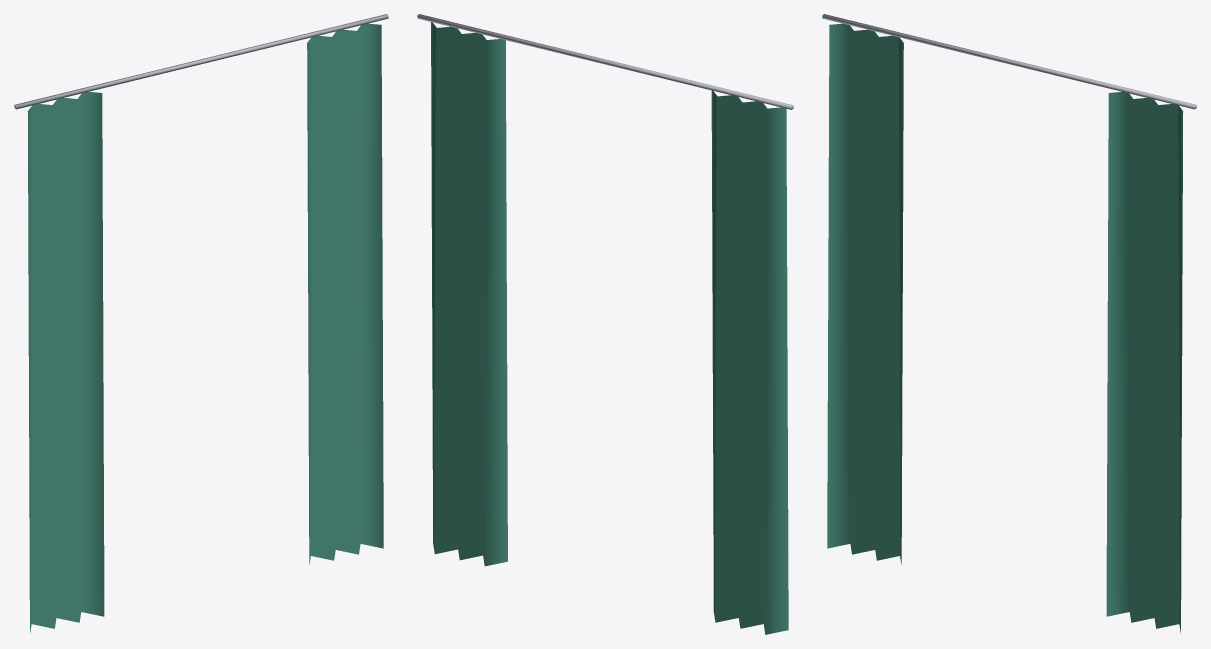
Rendered from city_curtain_teal.glb.
The picture shows the model from 3 angles, left to right: view 1: azimuth 30°, elevation 25°; view 2: azimuth 150°, elevation 25°; view 3: azimuth 330°, elevation 25°; orthographic projection.
Visible parts, largest first — view 1: CityCurtainTeal_PanelL, CityCurtainTeal_PanelR, CityCurtainTeal_Rod; view 2: CityCurtainTeal_PanelL, CityCurtainTeal_PanelR, CityCurtainTeal_Rod; view 3: CityCurtainTeal_PanelL, CityCurtainTeal_PanelR, CityCurtainTeal_Rod.
Boxes of the visible parts, left/top/right/bottom form: CityCurtainTeal_PanelL: left=27, top=92, right=104, bottom=633; CityCurtainTeal_PanelR: left=307, top=23, right=383, bottom=564; CityCurtainTeal_Rod: left=14, top=14, right=388, bottom=109; CityCurtainTeal_PanelL: left=711, top=90, right=788, bottom=634; CityCurtainTeal_PanelR: left=431, top=22, right=507, bottom=566; CityCurtainTeal_Rod: left=417, top=14, right=793, bottom=109; CityCurtainTeal_PanelL: left=827, top=23, right=903, bottom=564; CityCurtainTeal_PanelR: left=1106, top=92, right=1183, bottom=633; CityCurtainTeal_Rod: left=822, top=14, right=1196, bottom=109.
Bounding box in the file's own units: 2 × 2.71 × 0.1.
